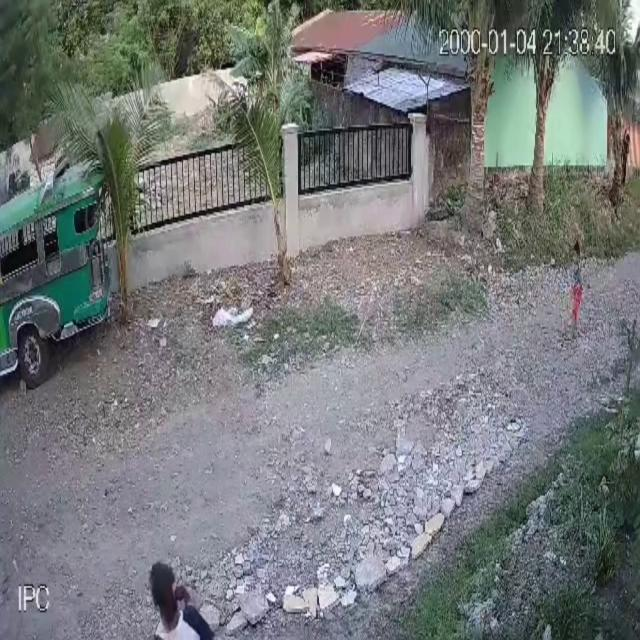walking: (149, 560, 224, 640), (562, 236, 584, 345), (620, 126, 630, 190)
